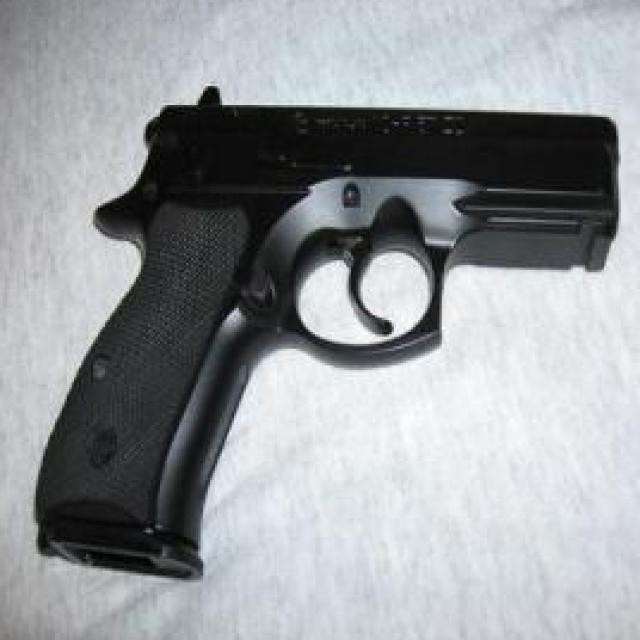pistol: (37, 86, 621, 561)
